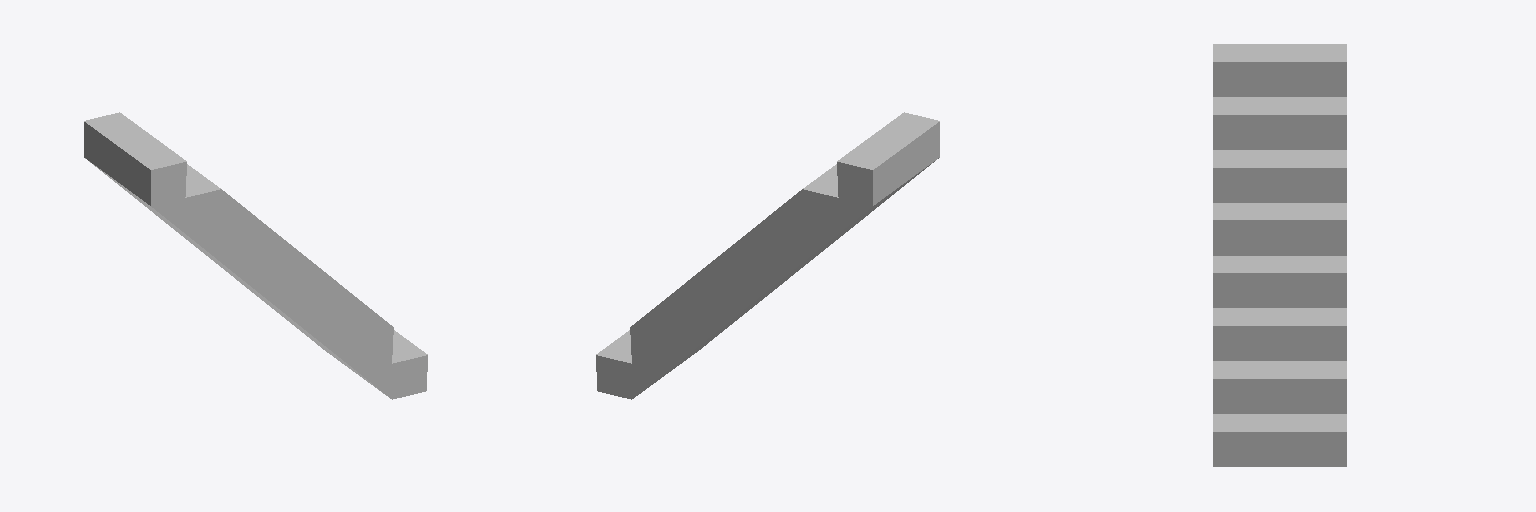
The model's file is indoor_stairs_narrow.obj.
The picture shows the model from 3 angles: view 1: azimuth 30°, elevation 25°; view 2: azimuth 150°, elevation 25°; view 3: azimuth 270°, elevation 25°; orthographic projection.
Parts seen in each view (by area): view 1: Cube_Cube.001; view 2: Cube_Cube.001; view 3: Cube_Cube.001.
Boxes of the visible parts, x1,y1,x2,y2 form: Cube_Cube.001: [84, 112, 427, 399]; Cube_Cube.001: [596, 112, 939, 399]; Cube_Cube.001: [1213, 44, 1346, 466].
Bounding box in the file's own units: 2.01 × 2 × 0.8463.